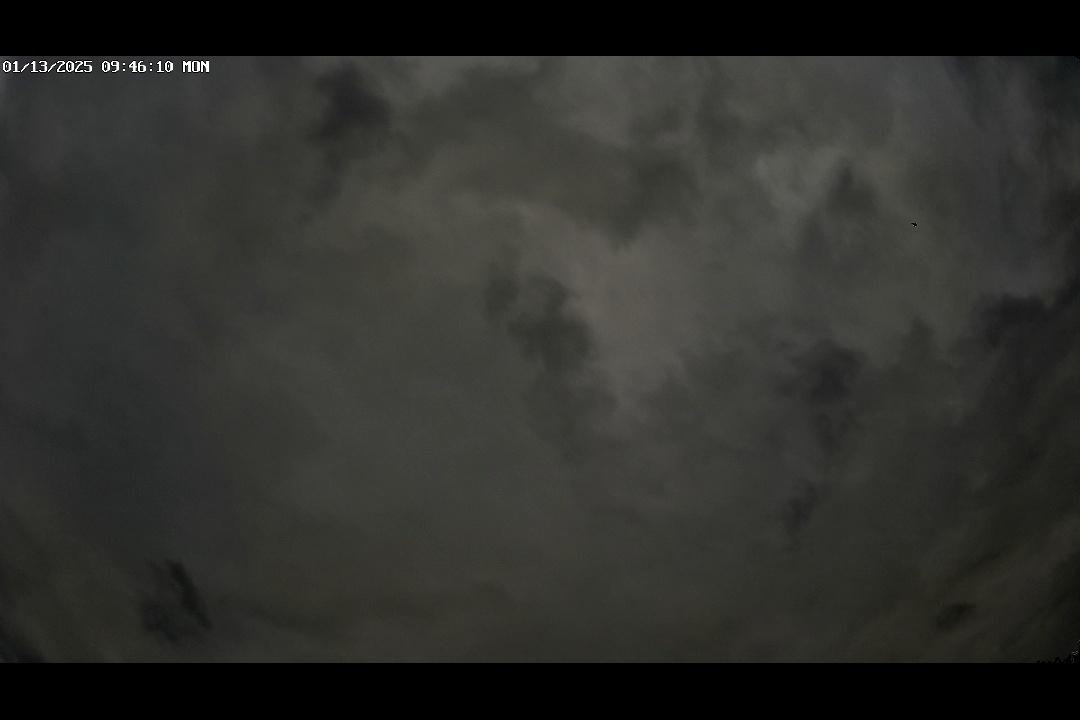WildLife: (903, 215, 923, 235)
